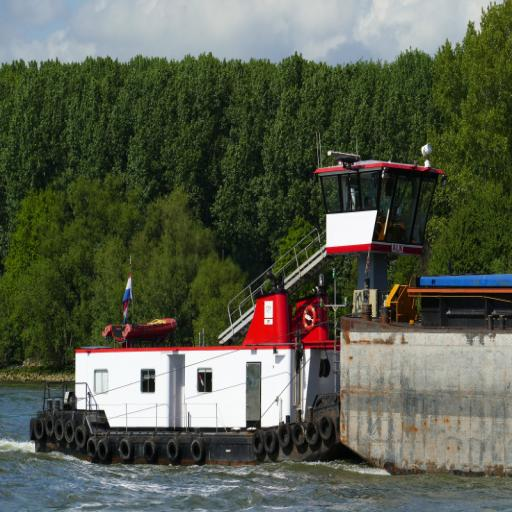tugboat: (28, 140, 451, 480)
